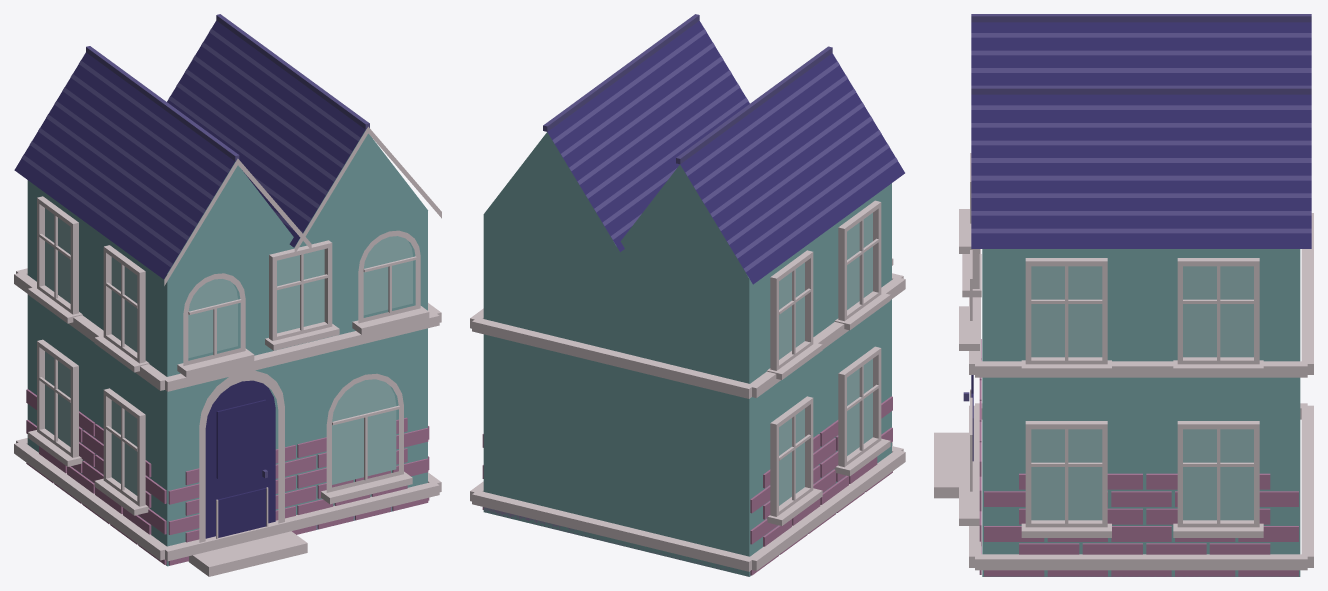
Rendered from mint-twin.glb.
3 views of the same model, side by side, from view 1: azimuth 30°, elevation 25°; view 2: azimuth 150°, elevation 25°; view 3: azimuth 270°, elevation 25° (orthographic). The views are drawn at different scales.
Parts seen in each view (by area): view 1: scenery; view 2: scenery; view 3: scenery.
Part boxes in pixels (<box>): scenery: <box>14,14,441,576</box>; scenery: <box>470,14,905,576</box>; scenery: <box>934,14,1313,576</box>.
Size of the model in its own units: 3.14 by 4.09 by 3.11.
